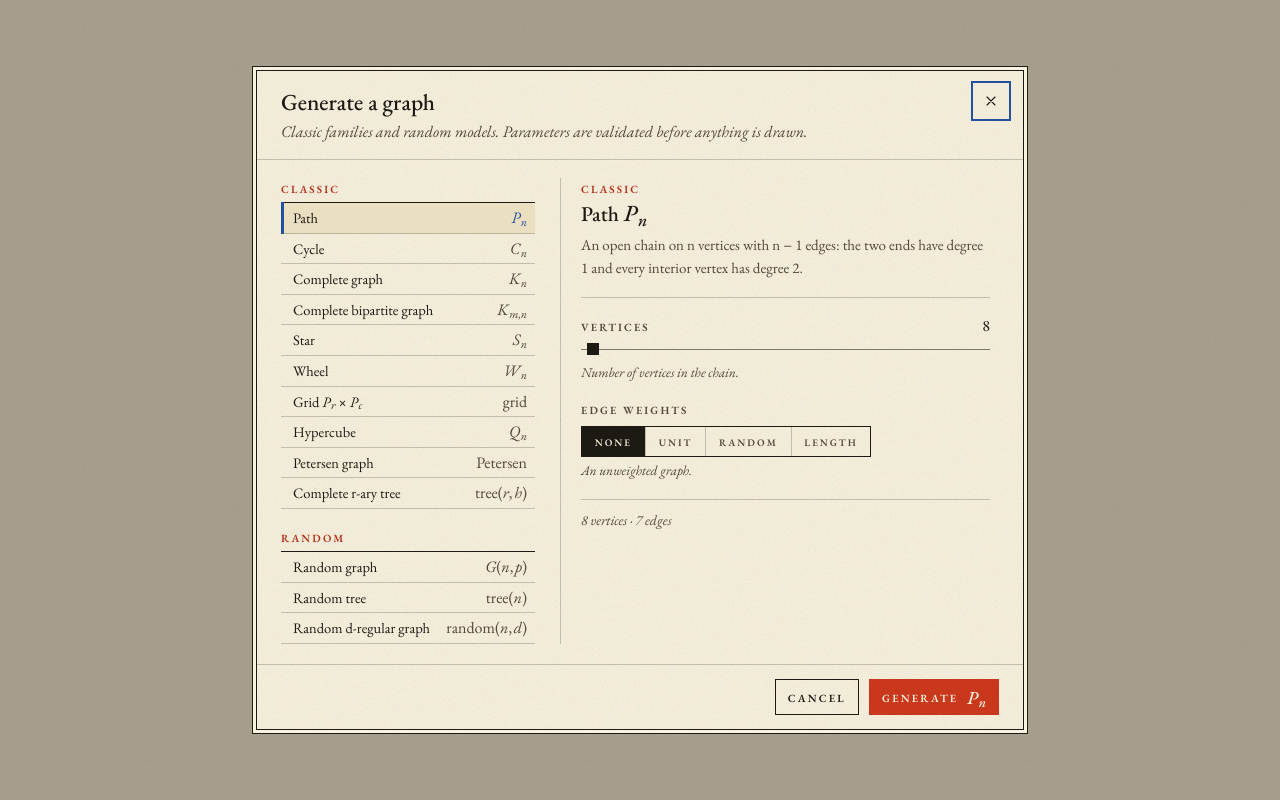
Test: GenerateDialog edge weights › explains a bad range and will not generate with it
Click the button "Path Pn". click: (408, 218)
box: 281,203 -> 535,234
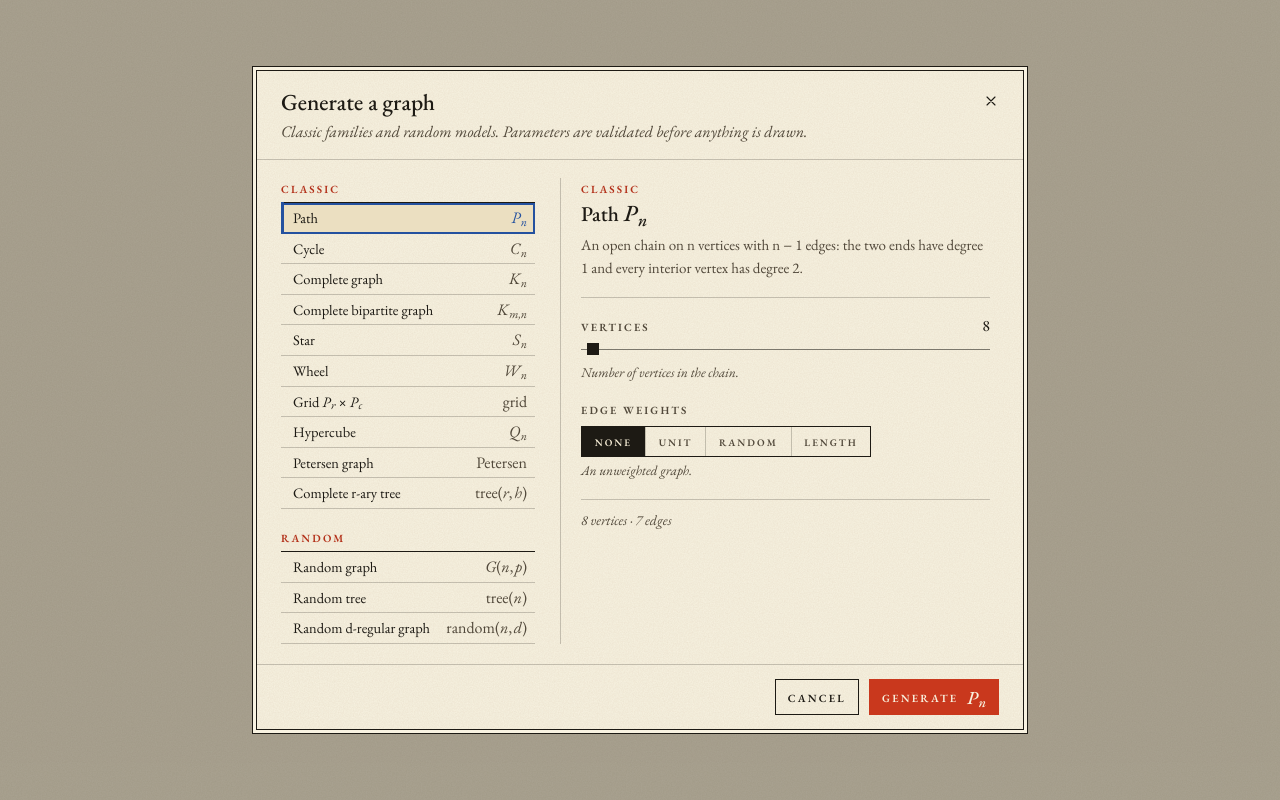
Click the radio button labelled "Random". click: (748, 441)
box: 705,427 -> 791,456
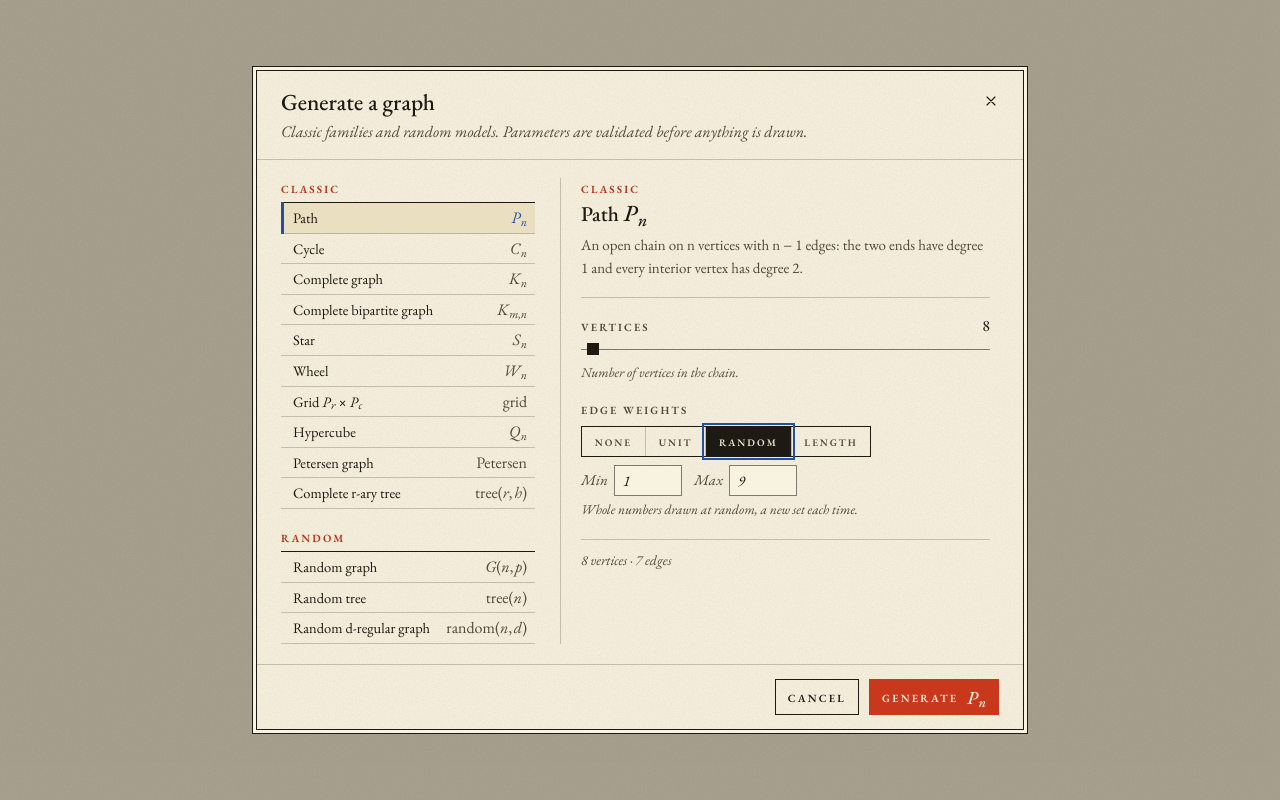
Replace the text in the number field labelled "Min" with "9". click: (648, 480)
box: 614,464 -> 682,496
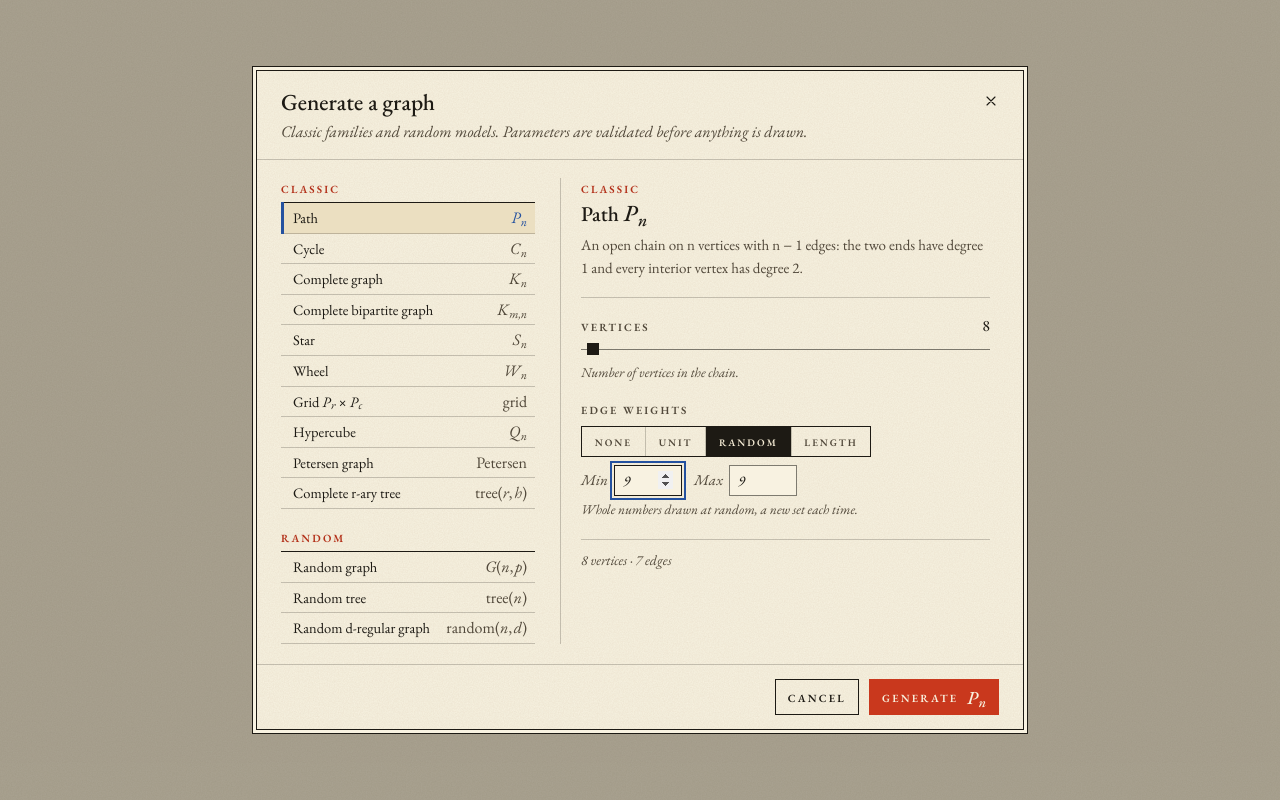
Replace the text in the number field labelled "Max" with "1". click: (763, 480)
box: 729,464 -> 797,496
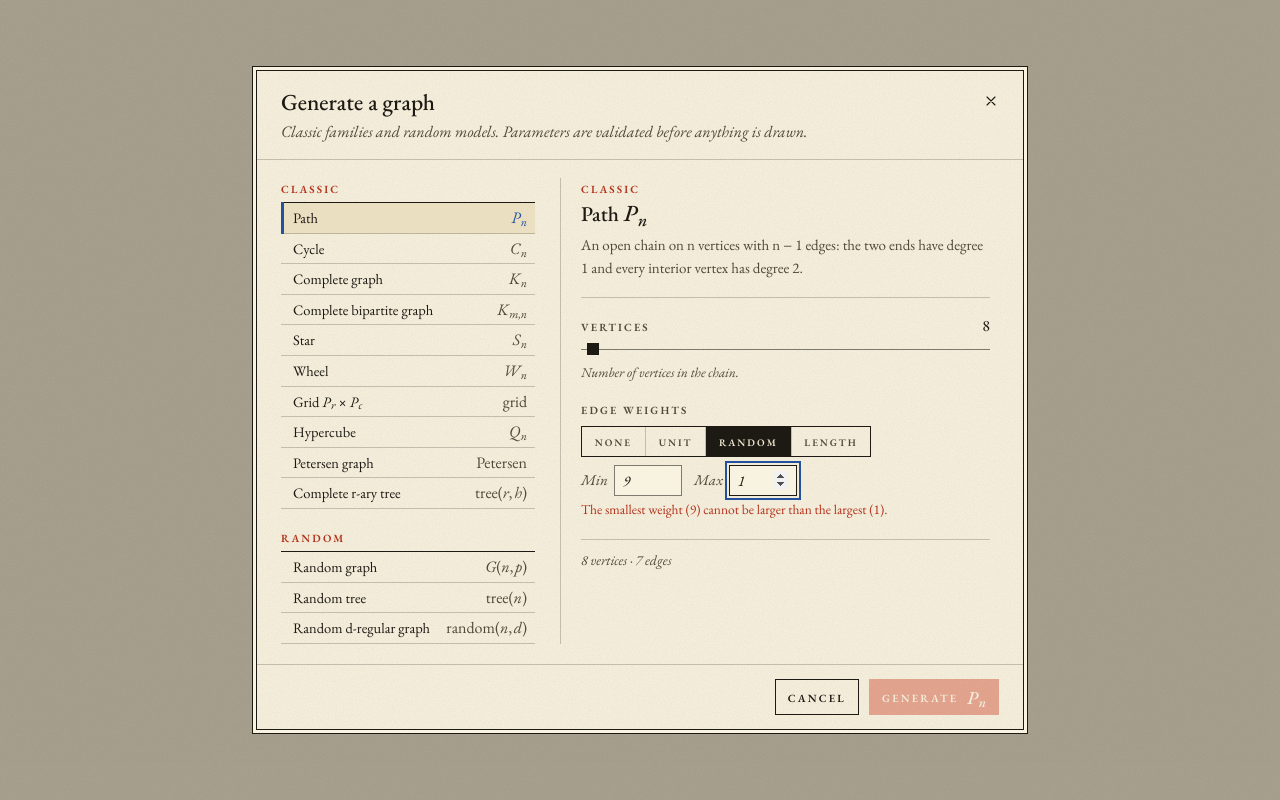
Expected: the button "Generate Pn" is disabled, 869,679 -> 999,715
Expected: the message reads "The smallest weight (9) cannot be larger than the largest (1).", 581,500 -> 887,518
Clear the number field labelled "Max". click: (763, 480)
box: 729,464 -> 797,496
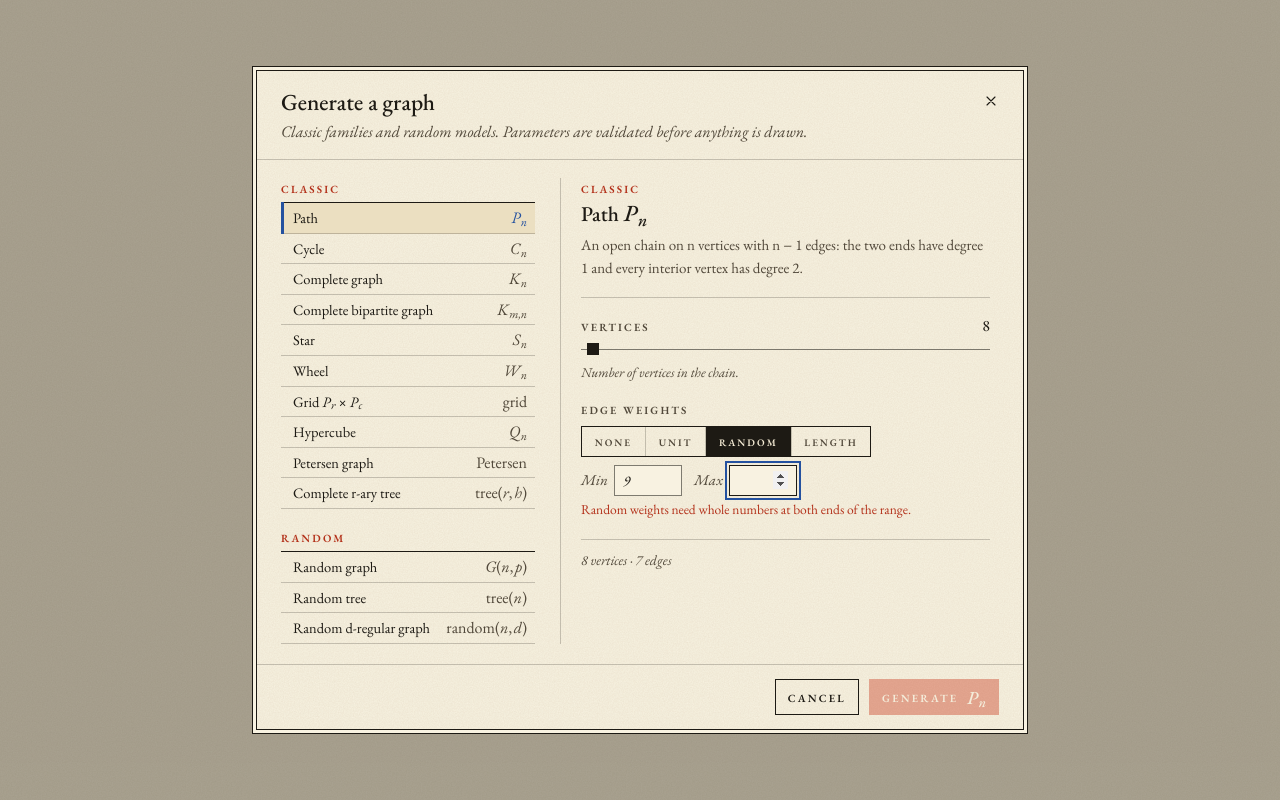
Expected: the message shows "whole numbers", 581,500 -> 911,518
